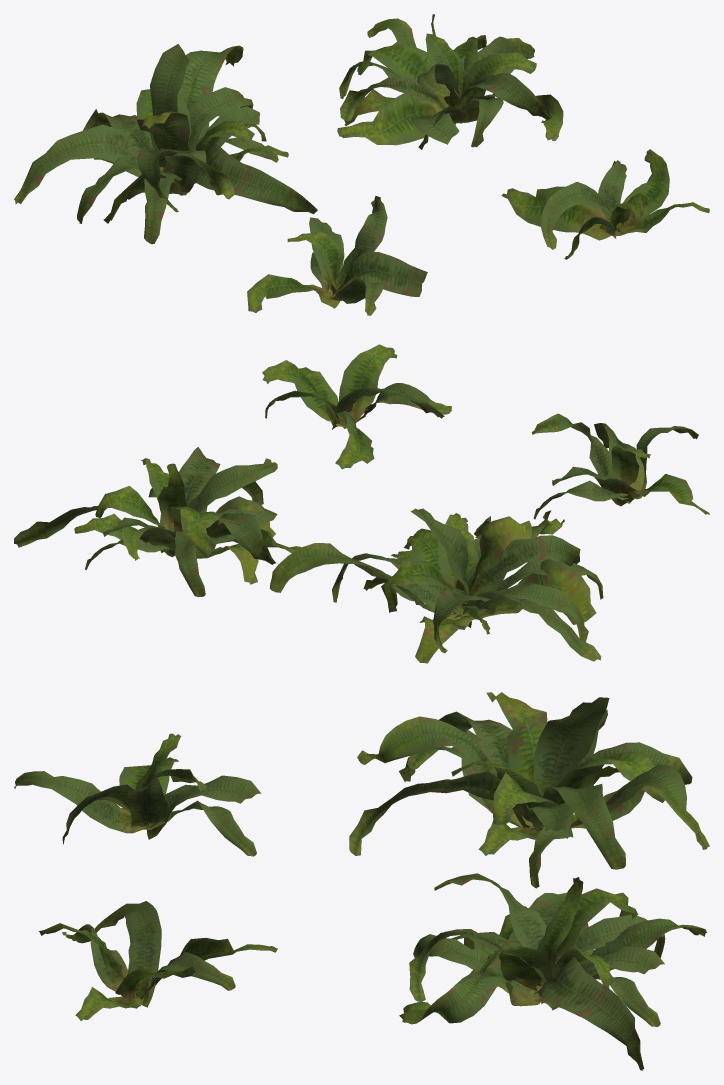
The model's file is fern_02.glb.
3 renders of one model, top to bottom at view 1: azimuth 30°, elevation 25°; view 2: azimuth 150°, elevation 25°; view 3: azimuth 270°, elevation 25°, orthographic. The views are drawn at different scales.
Parts seen in each view (by area): view 1: fern_02_b, fern_02_c, fern_02_d, fern_02_a; view 2: fern_02_b, fern_02_c, fern_02_d, fern_02_a; view 3: fern_02_b, fern_02_c, fern_02_a, fern_02_d.
Boxes of the visible parts, bbox=[...] form: fern_02_b: bbox=[14, 44, 317, 244]; fern_02_c: bbox=[337, 14, 563, 149]; fern_02_d: bbox=[501, 149, 709, 259]; fern_02_a: bbox=[247, 196, 427, 315]; fern_02_b: bbox=[269, 508, 603, 663]; fern_02_c: bbox=[14, 447, 300, 596]; fern_02_d: bbox=[262, 344, 451, 469]; fern_02_a: bbox=[531, 413, 709, 519]; fern_02_b: bbox=[349, 692, 709, 888]; fern_02_c: bbox=[399, 873, 707, 1070]; fern_02_a: bbox=[14, 733, 261, 856]; fern_02_d: bbox=[39, 901, 277, 1020].
Bounding box in the file's own units: 1.97 × 0.4277 × 1.72.
1 material, 1 textured.
